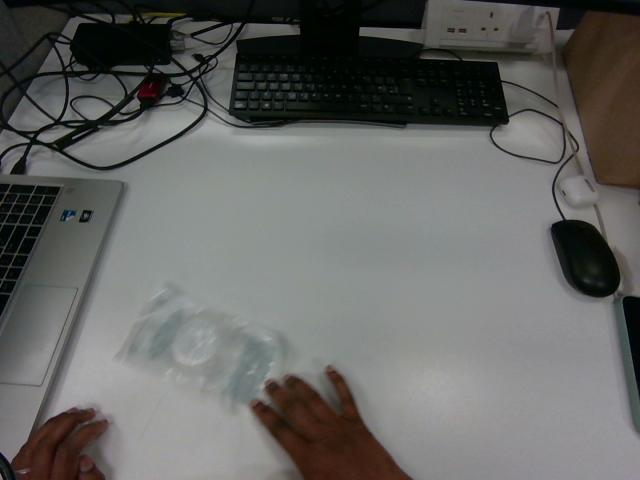gallipot: (118, 286, 283, 402)
